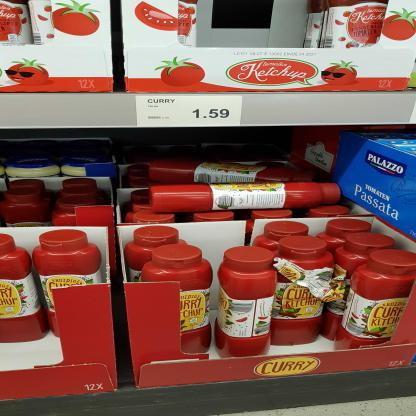prtg: (137, 97, 243, 128)
